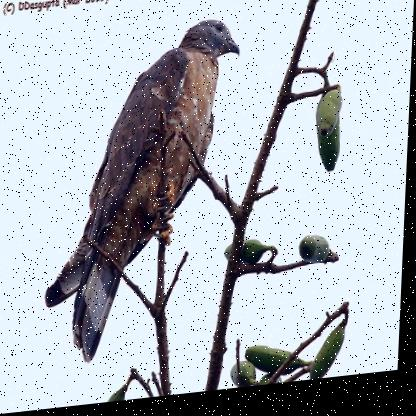Burung: (45, 19, 243, 372)
